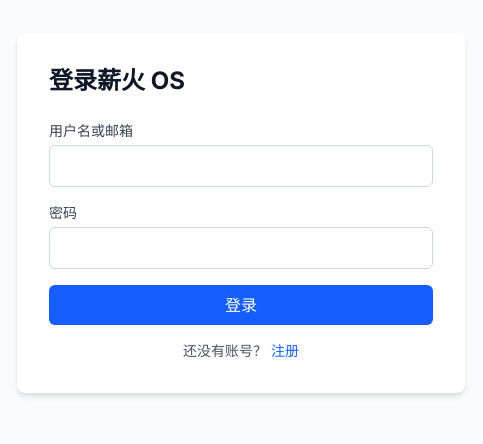
Test: Login Page › displays error message on login failure
Type "wrong" into the field at (241,166), box [49,145,433,187]
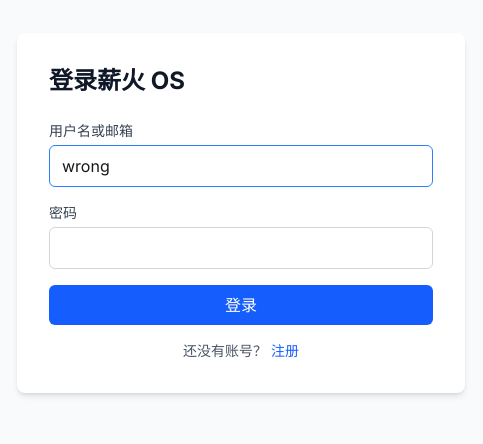
Type "wrongpass" into the password field at (241,248), box [49,227,433,269]
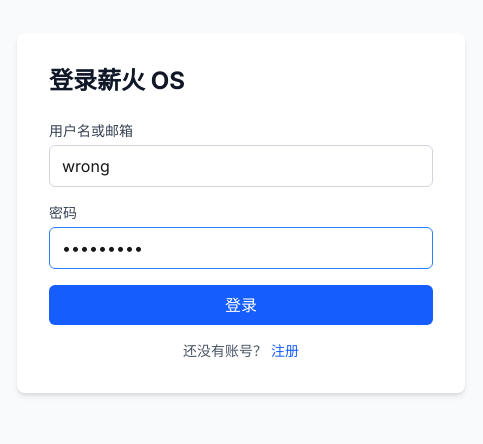
Click the submit button at (241,305), box [49,285,433,325]
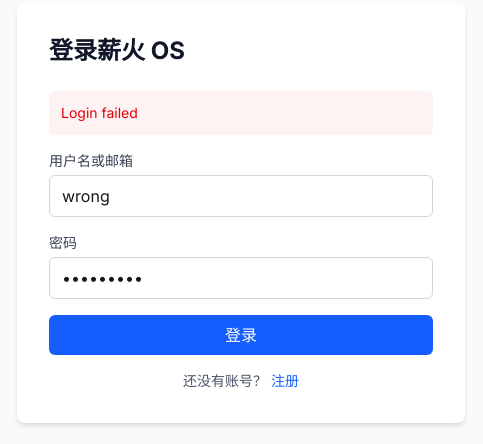
Expected: the text "Login failed" is shown, [49,91,433,135]
